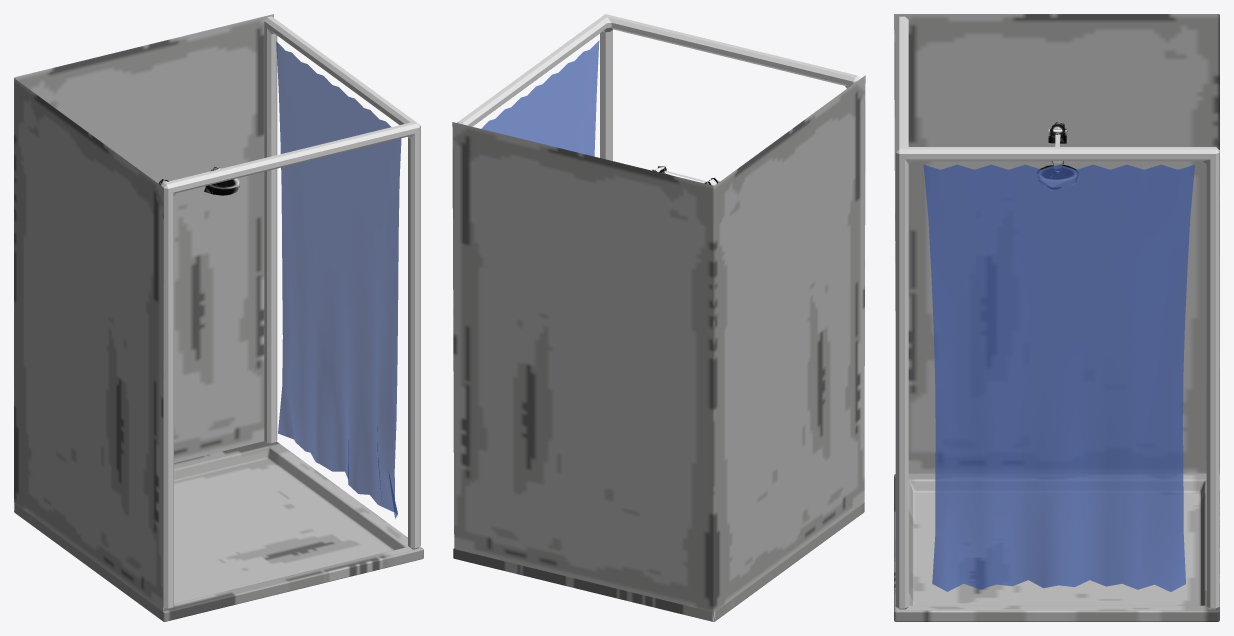
Rendered from shower.glb.
The picture shows the model from 3 angles, left to right: view 1: azimuth 30°, elevation 25°; view 2: azimuth 150°, elevation 25°; view 3: azimuth 270°, elevation 25°; orthographic projection. The views are drawn at different scales.
Parts seen in each view (by area): view 1: Shower.001, curtain, Shower; view 2: Shower.001, Shower, curtain; view 3: Shower.001, curtain, Shower, showerhead.001.
Part boxes in pixels (x1,y1,x2,y2): Shower.001: [14, 14, 423, 621]; curtain: [276, 41, 401, 518]; Shower: [161, 16, 420, 609]; Shower.001: [452, 75, 865, 621]; Shower: [457, 14, 860, 160]; curtain: [481, 40, 599, 156]; Shower.001: [894, 14, 1219, 621]; curtain: [923, 164, 1194, 591]; Shower: [895, 16, 1219, 609]; showerhead.001: [1037, 121, 1077, 190].
Size of the model in its own units: 1.25 by 1.99 by 1.25.
4 materials, 2 textured.
